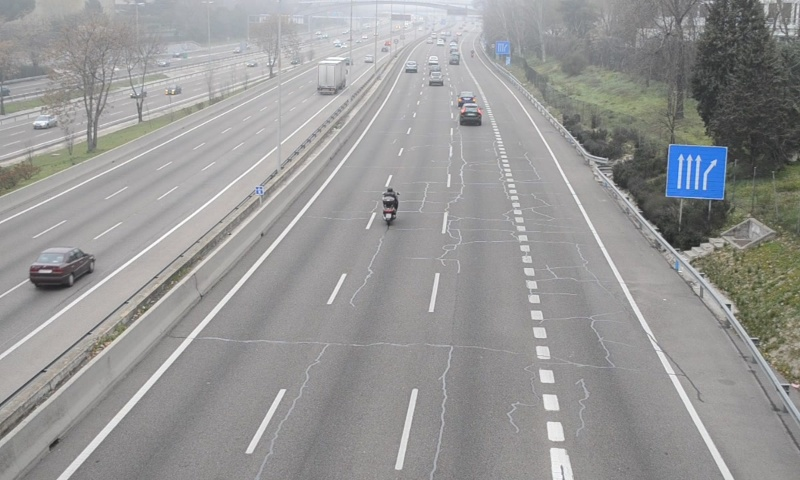car: (459, 103, 482, 124), (458, 91, 476, 105)
motorcycle: (380, 186, 398, 227)
